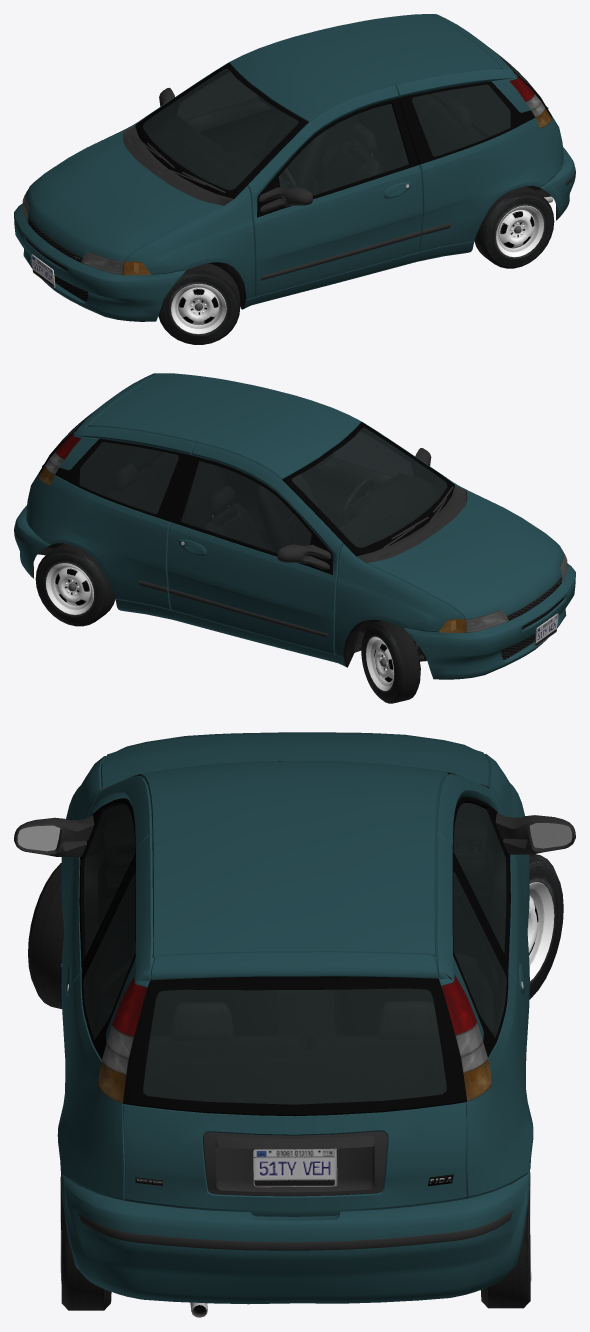
3 views of the same model, one above another, from view 1: azimuth 30°, elevation 25°; view 2: azimuth 150°, elevation 25°; view 3: azimuth 270°, elevation 25° (orthographic). The views are drawn at different scales.
Visible parts, largest first — view 1: Body_body_0, Door_FL_body_0, Hood_body_0, Windshield_UCB_GLASS_CLEAN_0, Seats_GEN4DR_INTERIOR_0, Door_Glass_FL_UCB_GLASS_CLEAN_0, Bumper_front_body_0, Bottom_UCB_BOTTOM_0, Wheel_FL_RB3_StampedEuro_chrome_0, Body_glass_UCB_GLASS_CLEAN_0, Wheel_RL_RB3_StampedEuro_chrome_0, Dashboard_GEN4DR_INTERIOR_0 (+12 smaller); view 2: Body_body_0, Door_FR_body_0, Hood_body_0, Windshield_UCB_GLASS_CLEAN_0, Seats_GEN4DR_INTERIOR_0, Door_Glass_FR_UCB_GLASS_CLEAN_0, Bumper_front_body_0, Bottom_UCB_BOTTOM_0, Body_glass_UCB_GLASS_CLEAN_0, Wheel_RR_RB3_StampedEuro_chrome_0, Dashboard_GEN4DR_INTERIOR_0, Wheel_FR_RB3_StampedEuro_chrome_0 (+12 smaller); view 3: Body_body_0, Bumper_rear_body_0, Trunkdoor_Glass_UCB_GLASS_CLEAN_0, Trunkdoor_body_0, interior_GEN4DR_INTERIOR_0, Trunkdoor_inner_UCB_BOTTOM_0, Seats_GEN4DR_INTERIOR_0, Hood_body_0, Body_glass_UCB_GLASS_CLEAN_0, Taillights_UCB_BOTTOM_0, Dashboard_GEN4DR_INTERIOR_0, Door_Glass_FR_UCB_GLASS_CLEAN_0 (+17 smaller).
Part boxes in pixels (left/top/right/bottom): Body_body_0: left=36, top=14, right=563, bottom=308; Door_FL_body_0: left=247, top=85, right=422, bottom=296; Hood_body_0: left=26, top=132, right=222, bottom=261; Windshield_UCB_GLASS_CLEAN_0: left=143, top=68, right=298, bottom=190; Seats_GEN4DR_INTERIOR_0: left=264, top=95, right=483, bottom=192; Door_Glass_FL_UCB_GLASS_CLEAN_0: left=278, top=103, right=408, bottom=198; Bumper_front_body_0: left=14, top=203, right=186, bottom=321; Bottom_UCB_BOTTOM_0: left=28, top=63, right=554, bottom=309; Wheel_FL_RB3_StampedEuro_chrome_0: left=158, top=263, right=240, bottom=344; Body_glass_UCB_GLASS_CLEAN_0: left=411, top=84, right=510, bottom=156; Wheel_RL_RB3_StampedEuro_chrome_0: left=474, top=186, right=554, bottom=268; Dashboard_GEN4DR_INTERIOR_0: left=143, top=117, right=287, bottom=198; Body_body_0: left=26, top=373, right=555, bottom=666; Door_FR_body_0: left=167, top=442, right=343, bottom=654; Hood_body_0: left=367, top=491, right=564, bottom=619; Windshield_UCB_GLASS_CLEAN_0: left=292, top=427, right=447, bottom=547; Seats_GEN4DR_INTERIOR_0: left=105, top=452, right=317, bottom=555; Door_Glass_FR_UCB_GLASS_CLEAN_0: left=181, top=461, right=311, bottom=556; Bumper_front_body_0: left=404, top=563, right=575, bottom=679; Bottom_UCB_BOTTOM_0: left=35, top=422, right=561, bottom=667; Body_glass_UCB_GLASS_CLEAN_0: left=79, top=442, right=178, bottom=514; Wheel_RR_RB3_StampedEuro_chrome_0: left=35, top=543, right=115, bottom=626; Dashboard_GEN4DR_INTERIOR_0: left=339, top=474, right=446, bottom=547; Wheel_FR_RB3_StampedEuro_chrome_0: left=361, top=620, right=420, bottom=703; Body_body_0: left=57, top=754, right=533, bottom=1200; Bumper_rear_body_0: left=61, top=1171, right=530, bottom=1304; Trunkdoor_Glass_UCB_GLASS_CLEAN_0: left=143, top=988, right=446, bottom=1104; Trunkdoor_body_0: left=123, top=952, right=466, bottom=1216; interior_GEN4DR_INTERIOR_0: left=84, top=873, right=505, bottom=1103; Trunkdoor_inner_UCB_BOTTOM_0: left=123, top=976, right=466, bottom=1196; Seats_GEN4DR_INTERIOR_0: left=149, top=954, right=484, bottom=1049; Hood_body_0: left=100, top=732, right=489, bottom=788; Body_glass_UCB_GLASS_CLEAN_0: left=83, top=871, right=506, bottom=1039; Taillights_UCB_BOTTOM_0: left=98, top=975, right=491, bottom=1102; Dashboard_GEN4DR_INTERIOR_0: left=99, top=803, right=491, bottom=898; Door_Glass_FR_UCB_GLASS_CLEAN_0: left=453, top=803, right=506, bottom=953.
Size of the model in its own units: 3.86 by 1.44 by 1.93.
Materials: 8 (7 with a texture image).
